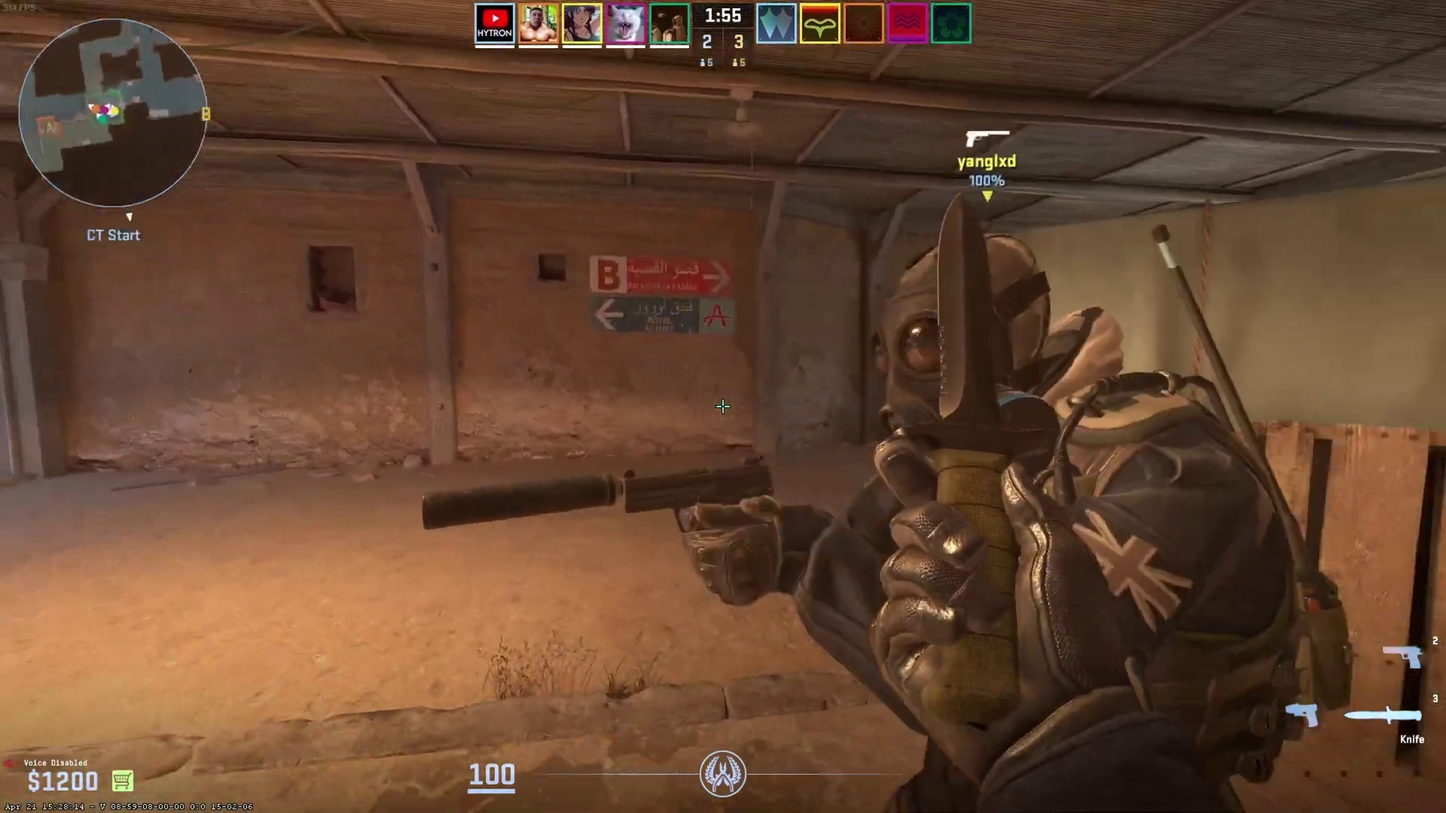CT: (868, 232, 1284, 811)
